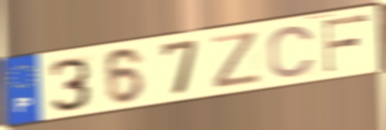3: (48, 55, 95, 114)
6: (104, 46, 149, 106)
7: (158, 38, 203, 98)
C: (266, 24, 317, 80)
F: (322, 12, 371, 75)
Z: (209, 29, 264, 91)
